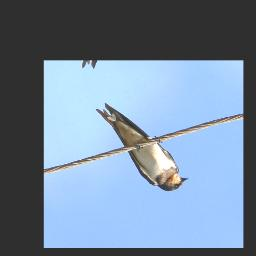Swallow: (94, 89, 192, 204)
